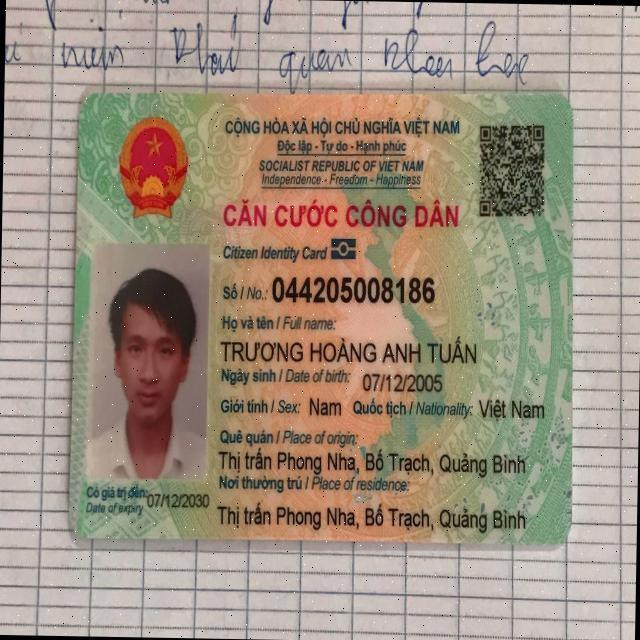current_place: (216, 497, 528, 537)
dob: (358, 365, 445, 397)
expire_date: (144, 488, 210, 510)
gender: (305, 392, 344, 418)
id: (264, 268, 436, 305)
name: (218, 332, 479, 373)
nationality: (472, 393, 545, 421)
origin_place: (216, 445, 528, 478)
